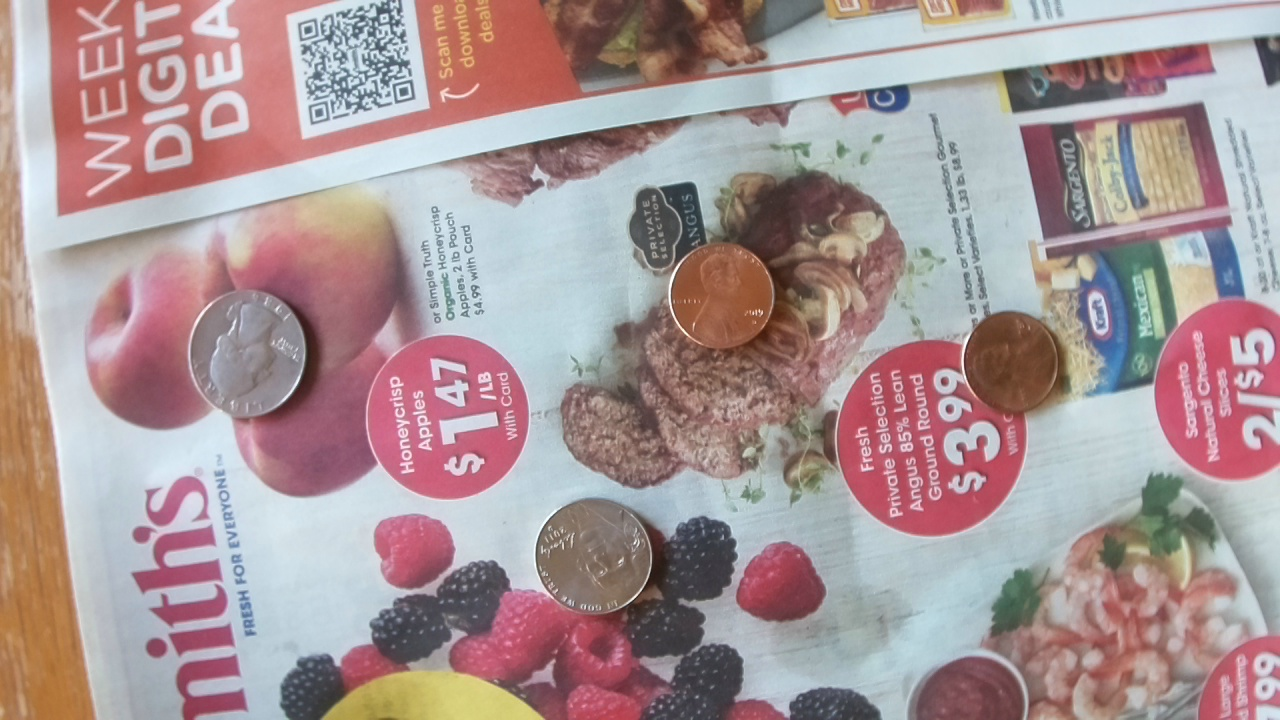nickel: (533, 497, 653, 616)
penny: (669, 240, 774, 348), (960, 307, 1059, 413)
quarter: (187, 288, 309, 420)
